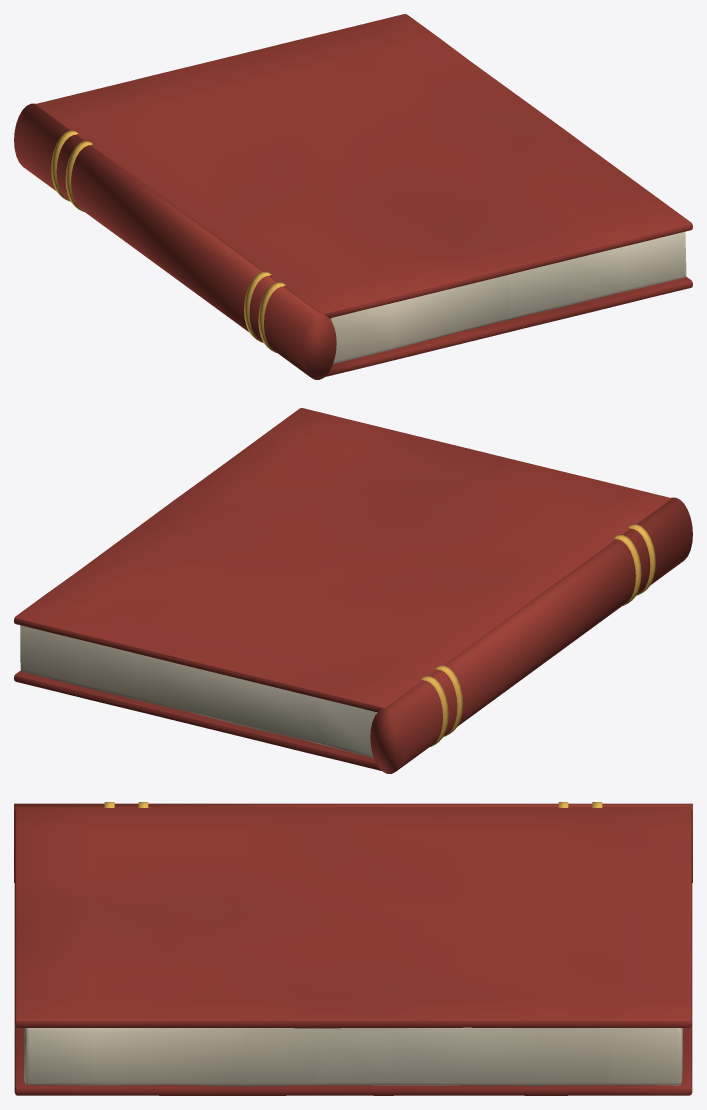
Rendered from frost_book_red.glb.
The picture shows the model from 3 angles, top to bottom: view 1: azimuth 30°, elevation 25°; view 2: azimuth 150°, elevation 25°; view 3: azimuth 270°, elevation 25°; orthographic projection. The views are drawn at different scales.
Parts seen in each view (by area): view 1: frost_book_red; view 2: frost_book_red; view 3: frost_book_red.
Part boxes in pixels (bbox=[...]): frost_book_red: bbox=[14, 14, 692, 379]; frost_book_red: bbox=[14, 408, 692, 773]; frost_book_red: bbox=[14, 802, 692, 1095].
Bounding box in the file's own units: 18.95 × 3.12 × 24.05.
